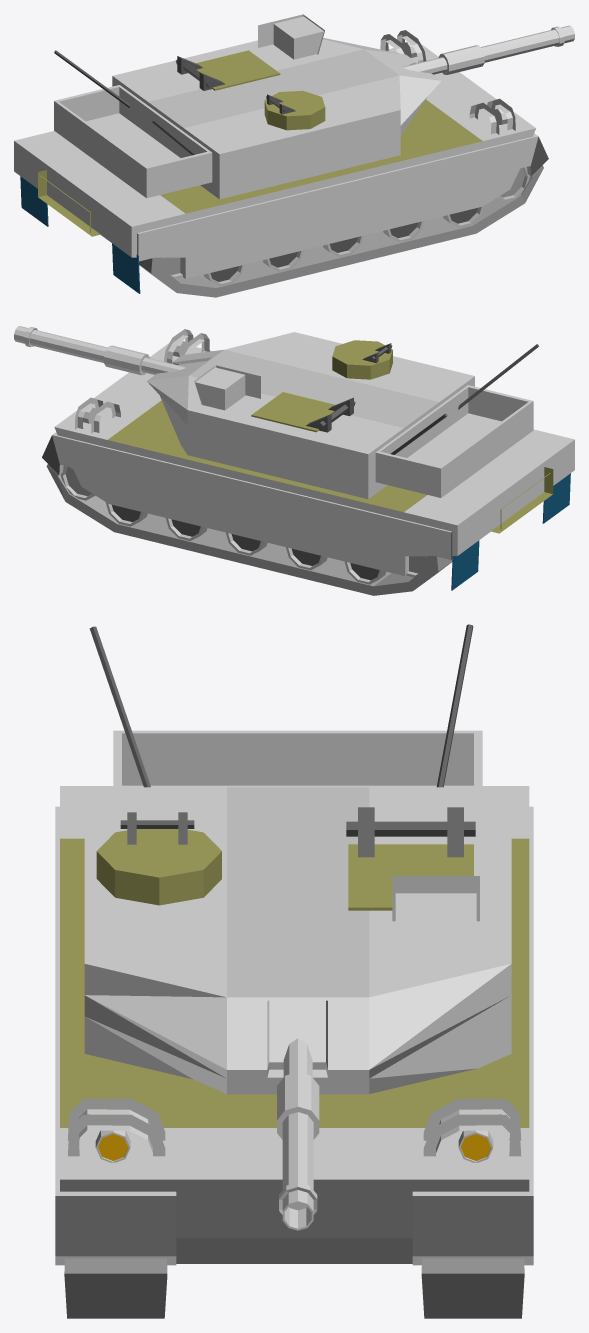
Rendered from tk_leo.glb.
3 renders of one model, top to bottom at view 1: azimuth 30°, elevation 25°; view 2: azimuth 150°, elevation 25°; view 3: azimuth 270°, elevation 25°, orthographic. The views are drawn at different scales.
Visible parts, largest first — view 1: turret, hull, trackR, gun, trackL; view 2: turret, hull, trackL, gun, trackR; view 3: turret, hull, trackR, trackL, gun.
Part boxes in pixels (<box>): turret: <box>54,14,441,199</box>; hull: <box>14,30,535,278</box>; trackR: <box>112,133,548,297</box>; gun: <box>402,25,574,74</box>; trackL: <box>20,176,48,226</box>; turret: <box>147,332,533,499</box>; hull: <box>54,329,574,576</box>; trackL: <box>42,432,479,595</box>; gun: <box>14,326,185,375</box>; trackR: <box>542,473,570,523</box>; turret: <box>84,624,511,1094</box>; hull: <box>60,626,529,1263</box>; trackR: <box>55,806,176,1318</box>; trackL: <box>412,806,533,1318</box>; gun: <box>277,1038,319,1230</box>.
Size of the model in its own units: 4.56 by 1.61 by 1.87.
